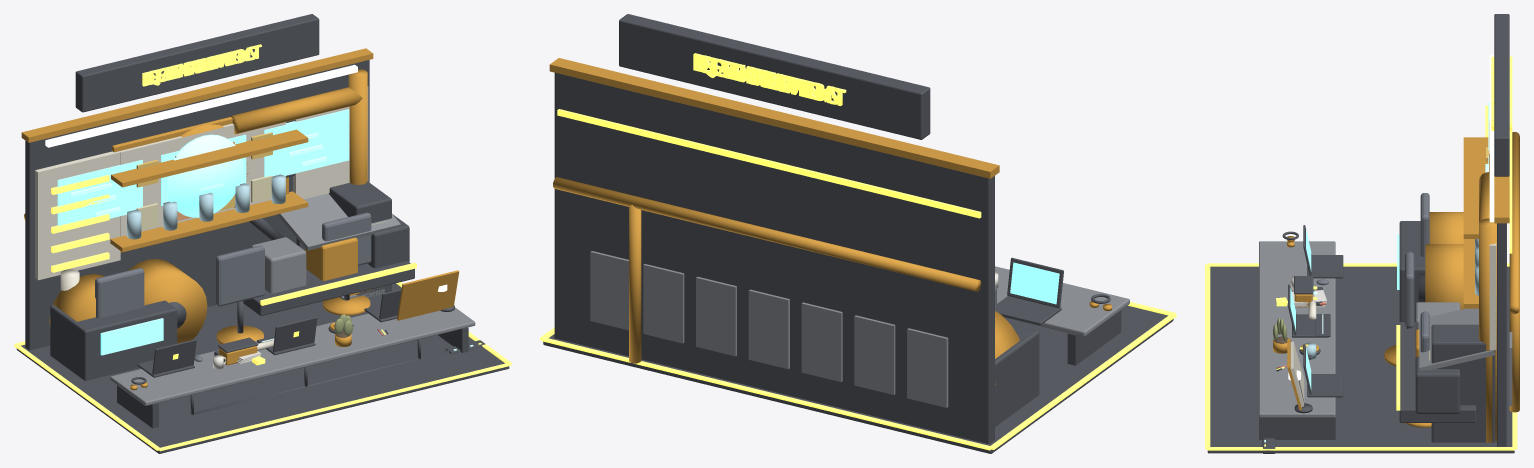
File: bay.glb
The picture shows the model from 3 angles, left to right: view 1: azimuth 30°, elevation 25°; view 2: azimuth 150°, elevation 25°; view 3: azimuth 270°, elevation 25°; orthographic projection. The views are drawn at different scales.
Parts seen in each view (by area): view 1: Bay_Merged_BayDark, Bay_Partition, Props_integration_Merged_BayTrim, Desk, Props_development_Merged_BayScreen, Bay_Merged_BayTrim, Bay_Merged_BayPlastic, Props_qa_Merged_BayTrim, Props_qa_Merged_BayDark, Props_review_Merged_BayCream, Props_integration_Merged_BayDark, Bay_Rev_Lens (+17 smaller); view 2: Bay_Partition, Bay_Merged_BayDark, Bay_Merged_BaySteel, Bay_Merged_BayTrim, Bay_Merged_BayAmber, Props_qa_Merged_BayDark, Desk, Bay_Merged_BayScreen, SignBack_development, SignBack_integration, Props_integration_Merged_BayTrim, SignBack_qa (+2 smaller); view 3: Bay_Merged_BayDark, Desk, Props_integration_Merged_BayTrim, Props_development_Merged_BayDark, Props_integration_Merged_BayDark, Bay_Merged_BayTrim, Bay_Merged_BayAmber, Props_qa_Merged_BayTrim, Bay_Partition, Bay_Merged_BayPlastic, Props_qa_Merged_BayDark, Bay_Plan_TableTop (+7 smaller).
Boxes of the visible parts, x1,y1,x2,y2 form: Bay_Merged_BayDark: [16, 14, 509, 453]; Bay_Partition: [25, 60, 369, 350]; Props_integration_Merged_BayTrim: [49, 69, 367, 365]; Desk: [110, 307, 475, 405]; Props_development_Merged_BayScreen: [57, 109, 349, 225]; Bay_Merged_BayTrim: [21, 48, 373, 390]; Bay_Merged_BayPlastic: [95, 212, 371, 361]; Props_qa_Merged_BayTrim: [110, 129, 308, 252]; Props_qa_Merged_BayDark: [50, 300, 224, 380]; Props_review_Merged_BayCream: [35, 151, 120, 280]; Props_integration_Merged_BayDark: [169, 214, 414, 352]; Bay_Rev_Lens: [165, 134, 243, 217]; Bay_Partition: [554, 72, 994, 443]; Bay_Merged_BayDark: [543, 14, 1173, 453]; Bay_Merged_BaySteel: [590, 251, 948, 407]; Bay_Merged_BayTrim: [549, 58, 1111, 363]; Bay_Merged_BayAmber: [540, 109, 1176, 450]; Props_qa_Merged_BayDark: [995, 324, 1039, 426]; Desk: [995, 266, 1129, 336]; Bay_Merged_BayScreen: [1010, 262, 1059, 304]; SignBack_development: [693, 53, 846, 105]; SignBack_integration: [696, 54, 842, 105]; Props_integration_Merged_BayTrim: [995, 311, 1019, 385]; SignBack_qa: [699, 56, 837, 104]; Bay_Merged_BayDark: [1207, 14, 1514, 453]; Desk: [1259, 241, 1335, 417]; Props_integration_Merged_BayTrim: [1294, 172, 1496, 442]; Props_development_Merged_BayDark: [1315, 314, 1495, 442]; Props_integration_Merged_BayDark: [1294, 273, 1476, 422]; Bay_Merged_BayTrim: [1273, 132, 1519, 427]; Bay_Merged_BayAmber: [1205, 132, 1517, 450]; Props_qa_Merged_BayTrim: [1463, 137, 1488, 308]; Bay_Partition: [1497, 223, 1506, 446]; Bay_Merged_BayPlastic: [1316, 193, 1429, 352]; Props_qa_Merged_BayDark: [1306, 221, 1425, 322]; Bay_Plan_TableTop: [1419, 308, 1494, 370].
Bounding box in the file's own units: 3.44 × 2.47 × 2.46.
